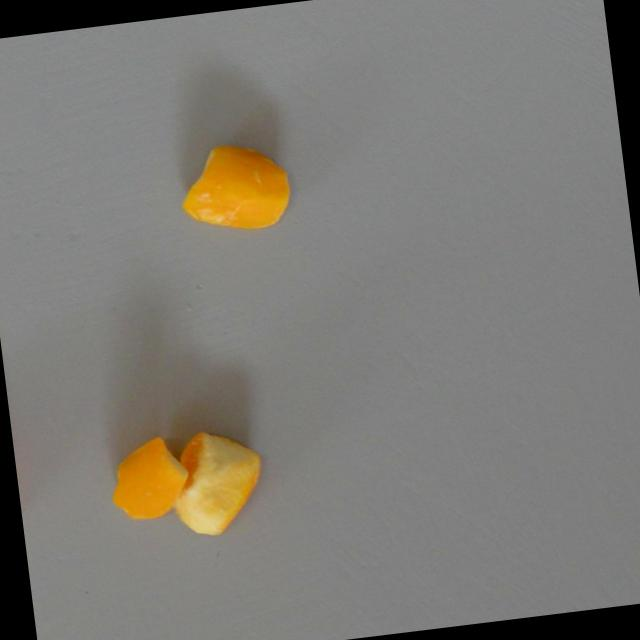estandar: (165, 420, 269, 539), (104, 431, 193, 523)
pelicula: (174, 135, 295, 237)
